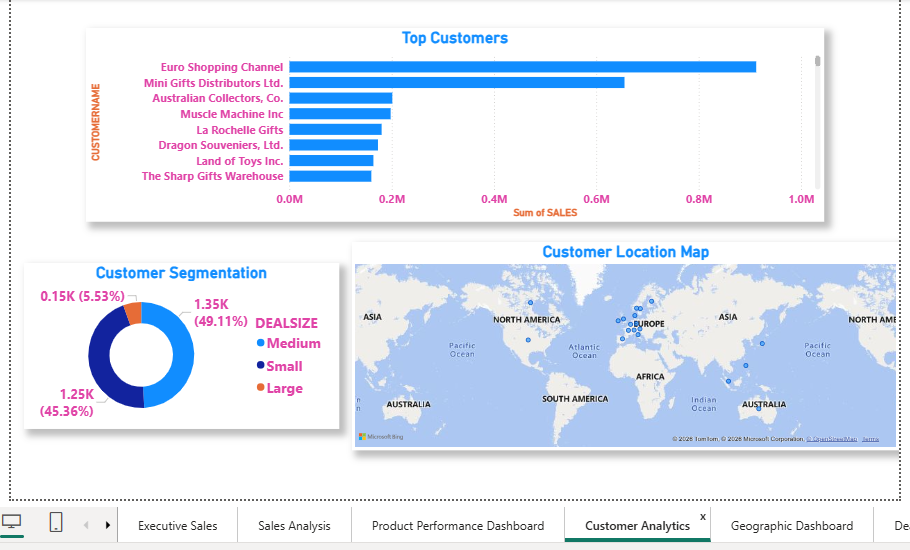

The page's visual inventory and layout, read from the dashboard file:
{"tool":"powerbi","page":{"name":"Customer Analytics","canvas":[1280,720],"ordinal":3},"visuals":[{"type":"barChart","title":"Top Customers","fields":{"Y":["Sum(Auto Sales data.SALES)"],"Category":["Auto Sales data.CUSTOMERNAME"]},"box":[108,41.8,1062.7,279.4],"z":0},{"type":"donutChart","title":"Customer Segmentation","fields":{"Y":["CountNonNull(Auto Sales data.CUSTOMERNAME)"],"Category":["Auto Sales data.DEALSIZE"]},"box":[18.7,380.2,453.6,239],"z":1000},{"type":"map","title":"Customer Location Map","fields":{"Category":["Auto Sales data.COUNTRY","Auto Sales data.CITY"]},"box":[491,349.9,789.1,299.5],"z":2000}]}

Visuals, with their boxes on the page's 1280x720 design canvas (x1, y1, x2, y2). These are canvas units, not pixel positions in the 910x550 screenshot, which may show the page scaled, cropped or inside an application window:
"Top Customers" barChart: (108,42,1171,321)
"Customer Segmentation" donutChart: (19,380,472,619)
"Customer Location Map" map: (491,350,1280,649)
